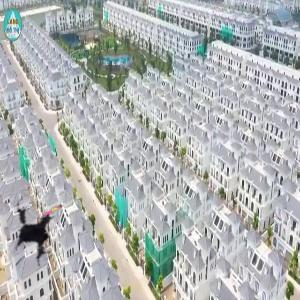drone: (3, 190, 85, 272)
